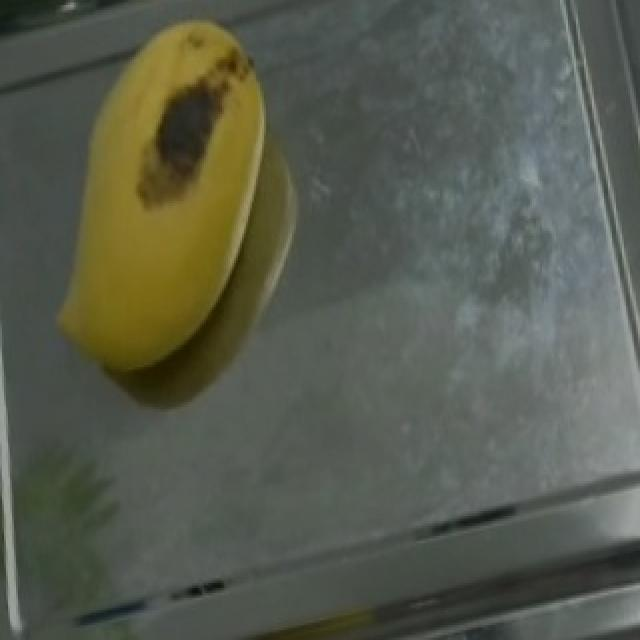fruit: (10, 10, 316, 412)
